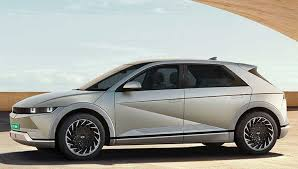Honda Ioniq: (6, 52, 291, 161)
